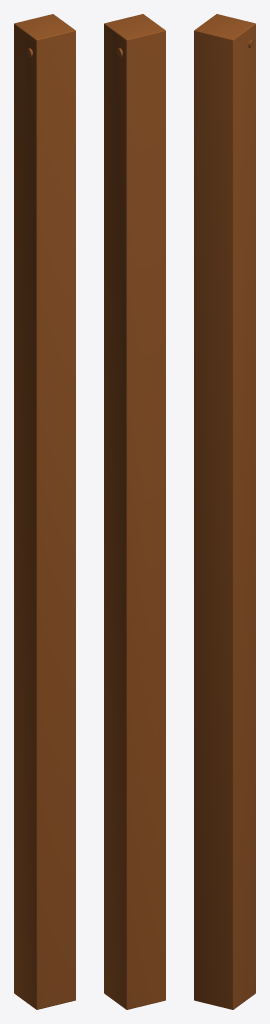
Rendered from stuetze.FBX.
The picture shows the model from 3 angles, left to right: view 1: azimuth 30°, elevation 25°; view 2: azimuth 210°, elevation 25°; view 3: azimuth 330°, elevation 25°; orthographic projection.
Visible parts, largest first — view 1: stuetze; view 2: stuetze; view 3: stuetze.
Boxes of the visible parts, x1,y1,x2,y2 form: stuetze: (14,14,75,1009); stuetze: (104,14,165,1009); stuetze: (194,14,255,1009).
Size of the model in its own units: 1.1 by 23.4 by 1.
